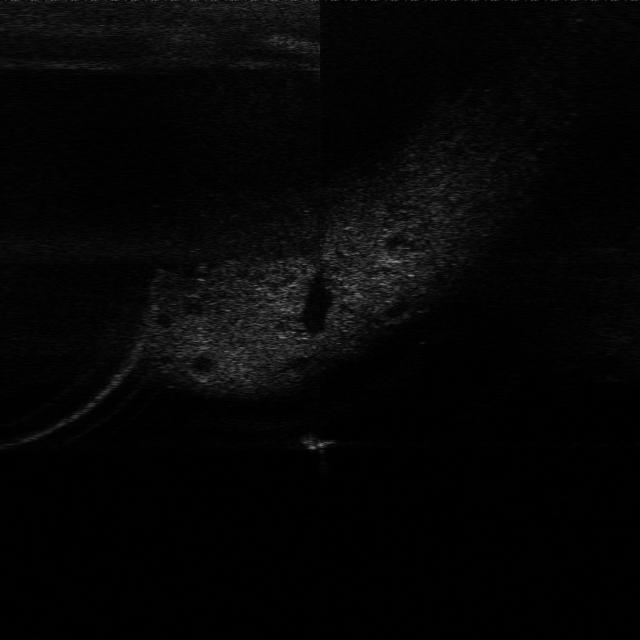cube: (296, 424, 342, 455)
